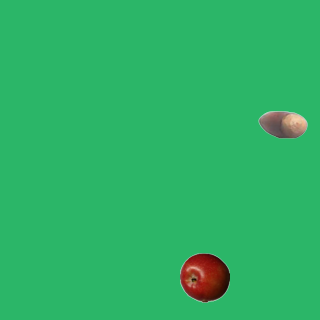Apple Braeburn: (179, 252, 229, 302)
Hazelnut: (257, 99, 307, 149)
